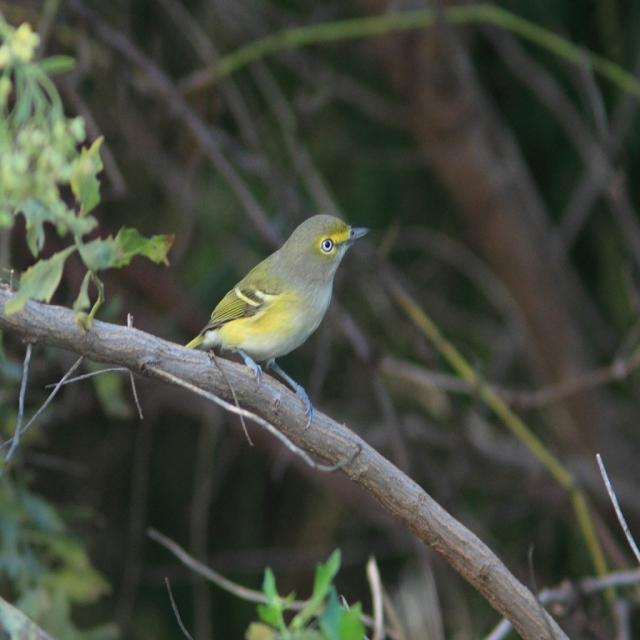bird: (188, 212, 372, 406)
